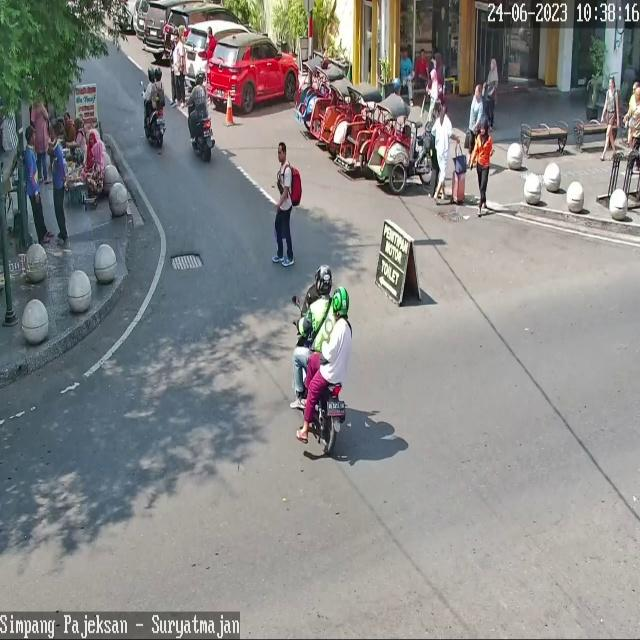bus: (294, 311, 346, 453), (142, 86, 166, 148), (193, 114, 214, 164)
motorcycle: (206, 34, 300, 114), (190, 21, 252, 88), (163, 3, 244, 54), (143, 0, 169, 53)
